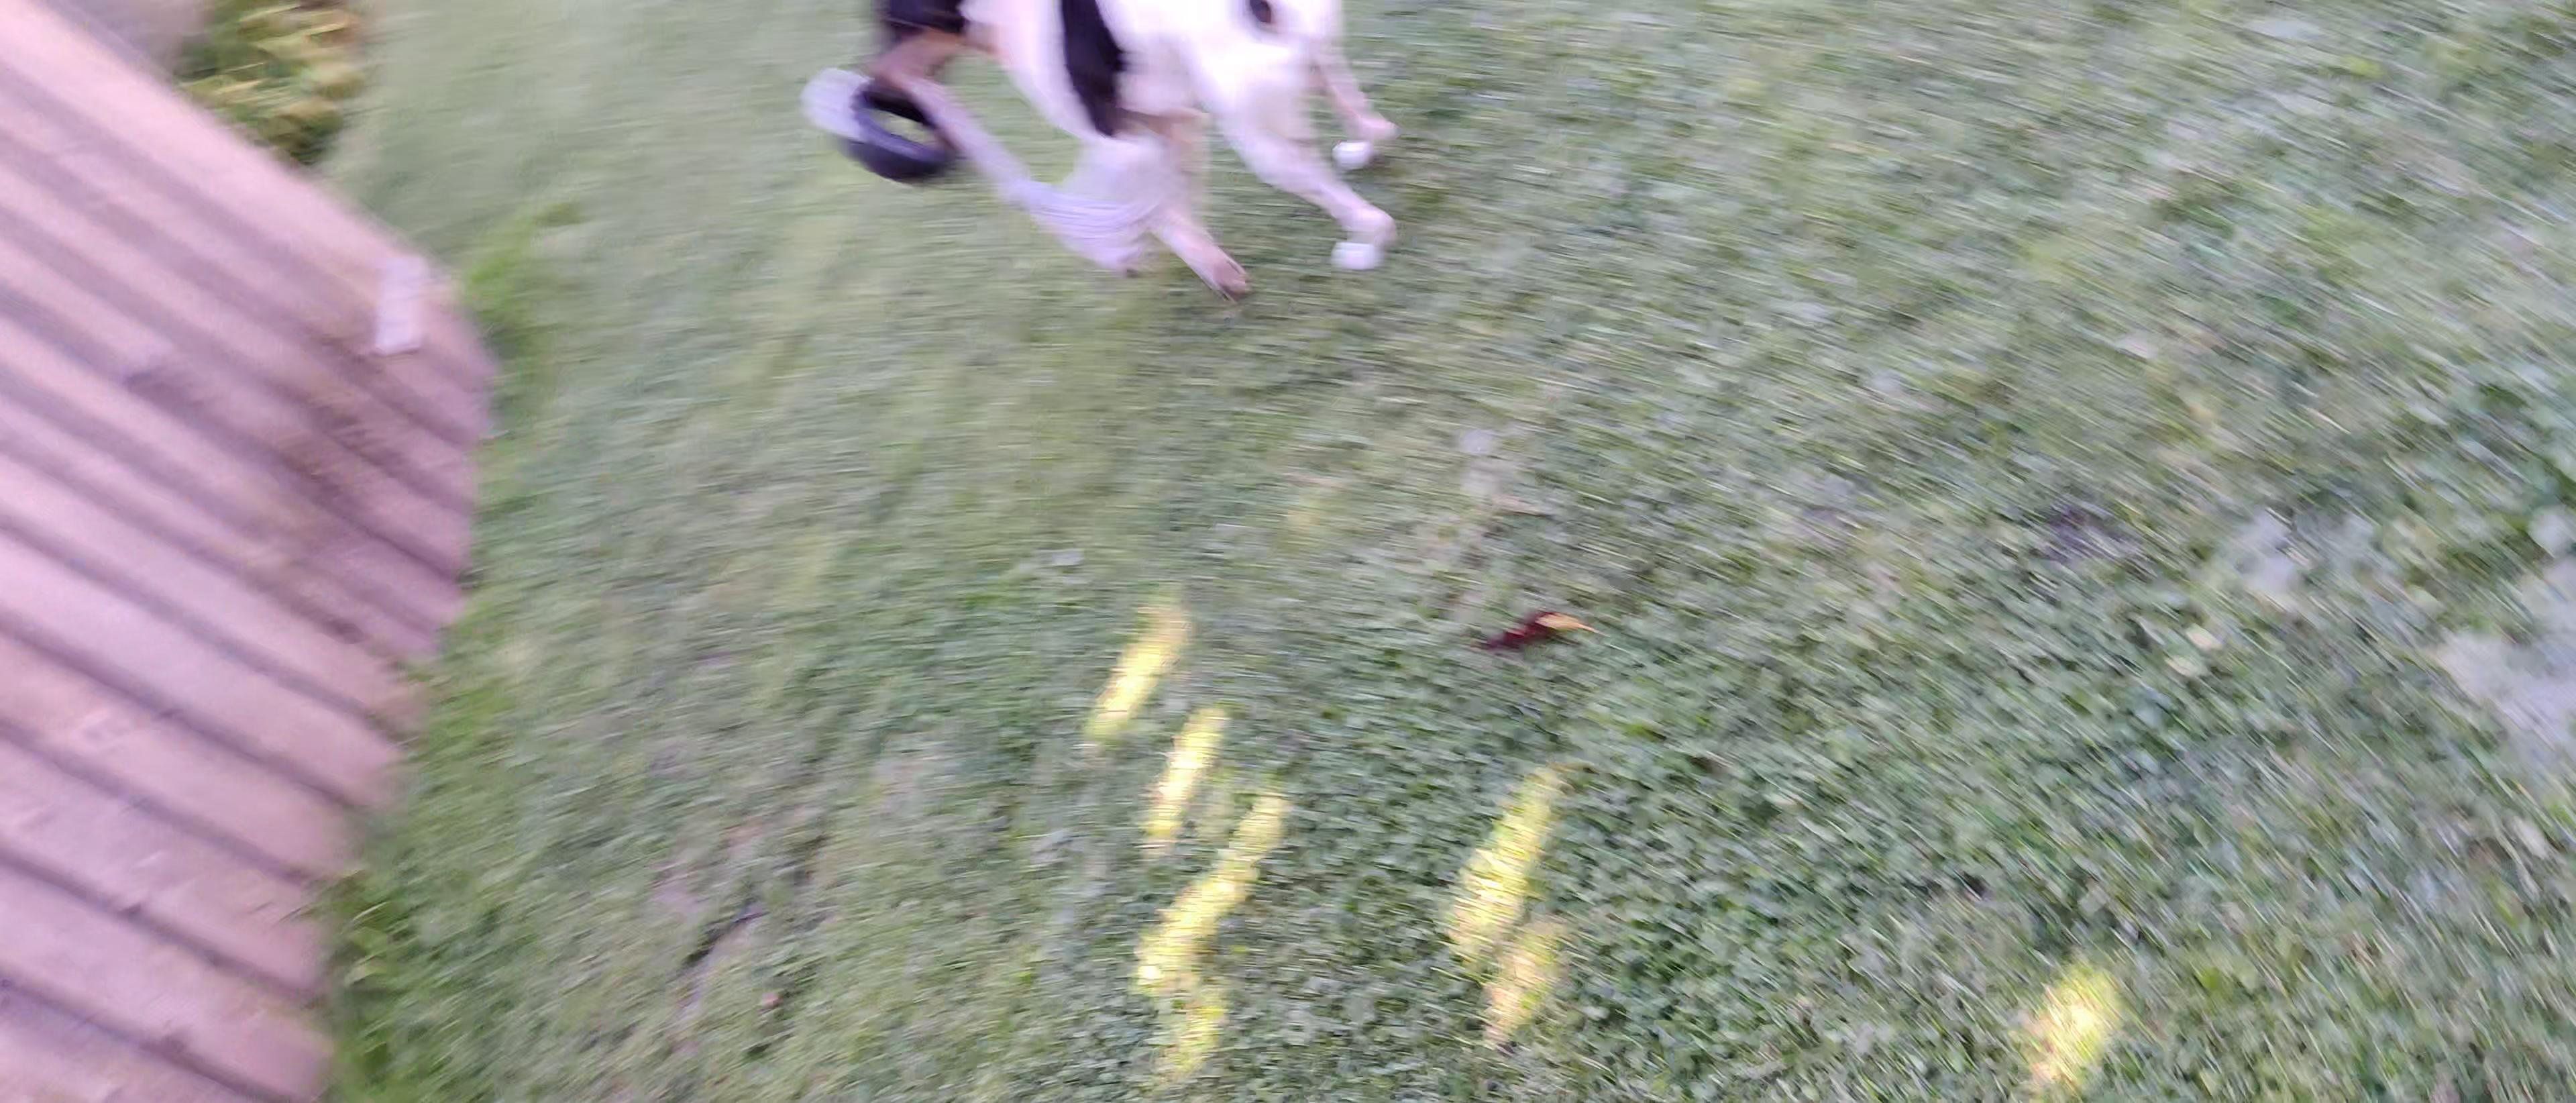Dog: (846, 0, 1447, 304)
